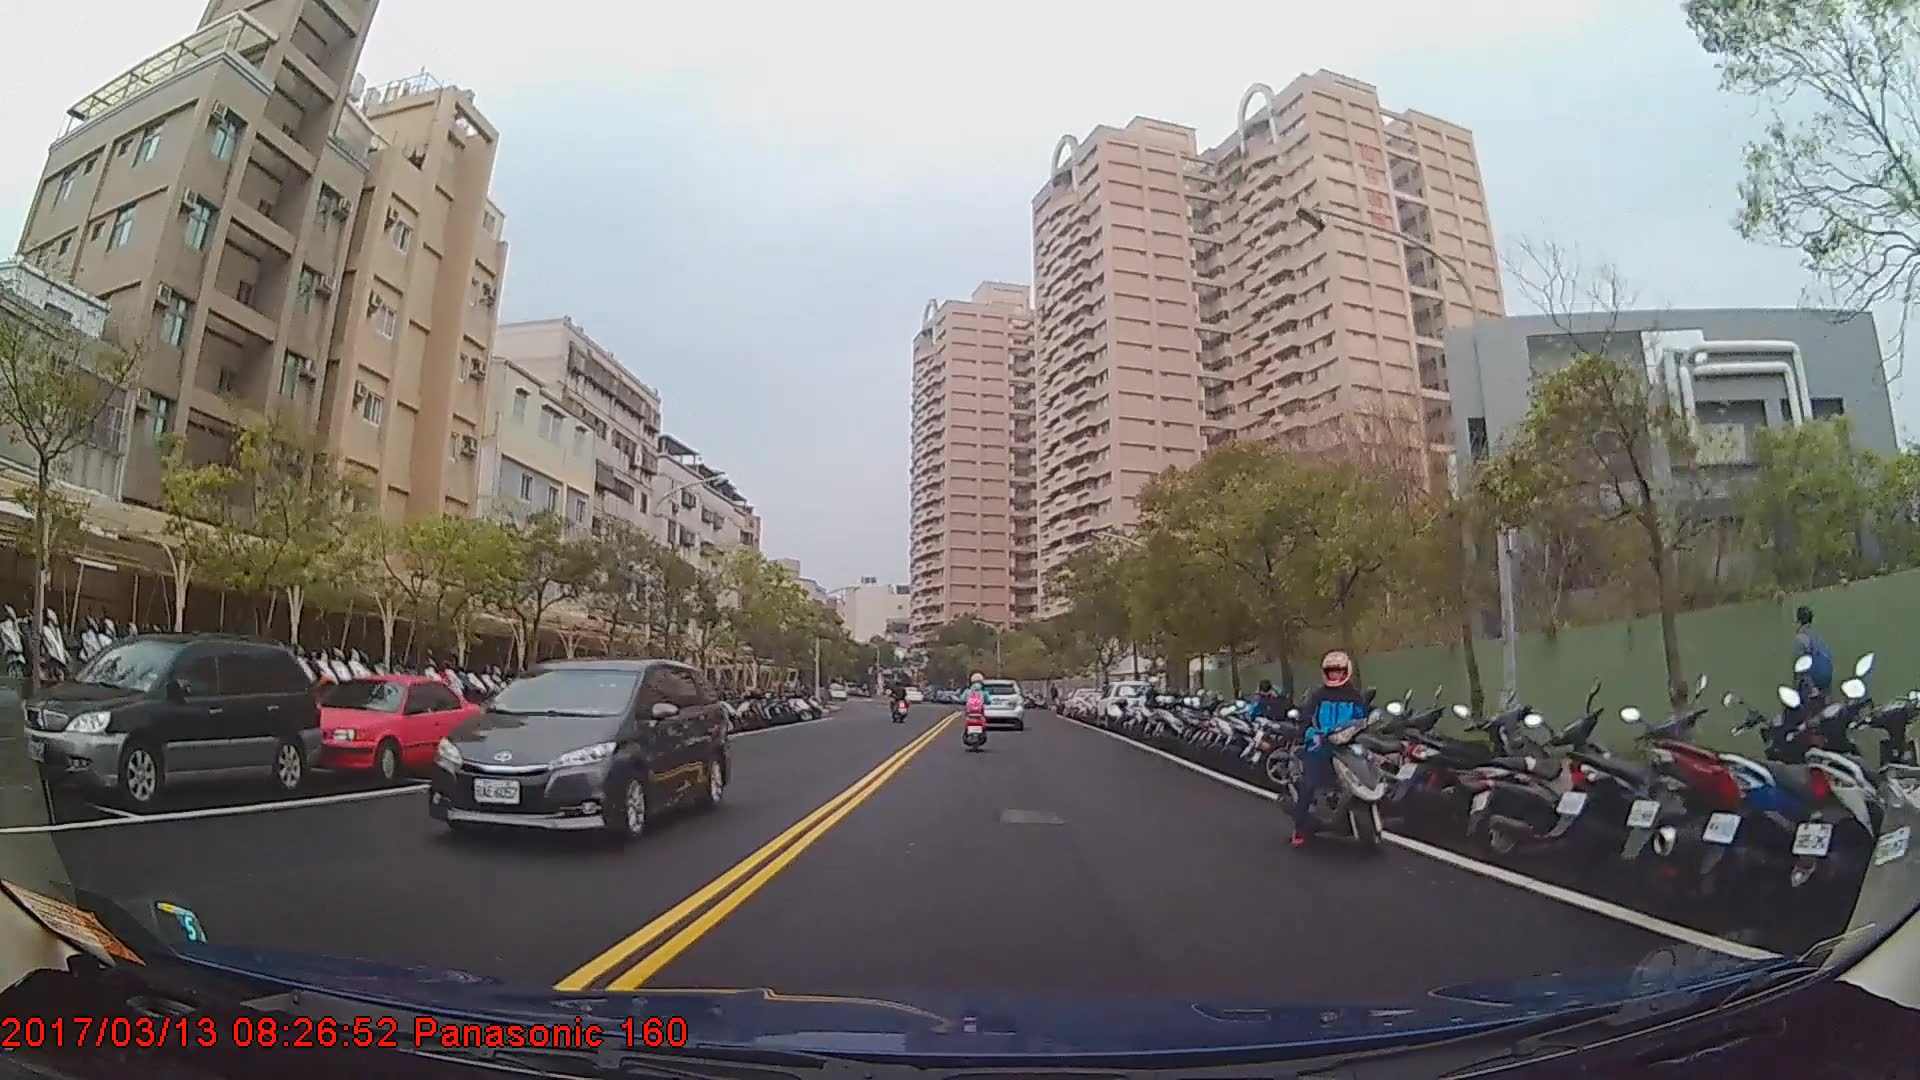pedestrian: (1774, 607, 1842, 804), (1253, 679, 1298, 769)
rider: (1283, 647, 1391, 854), (959, 674, 992, 751), (890, 680, 910, 723)
vehicle: (423, 656, 729, 852), (18, 632, 320, 807), (303, 674, 482, 783), (1092, 680, 1161, 732), (968, 679, 1023, 730)
